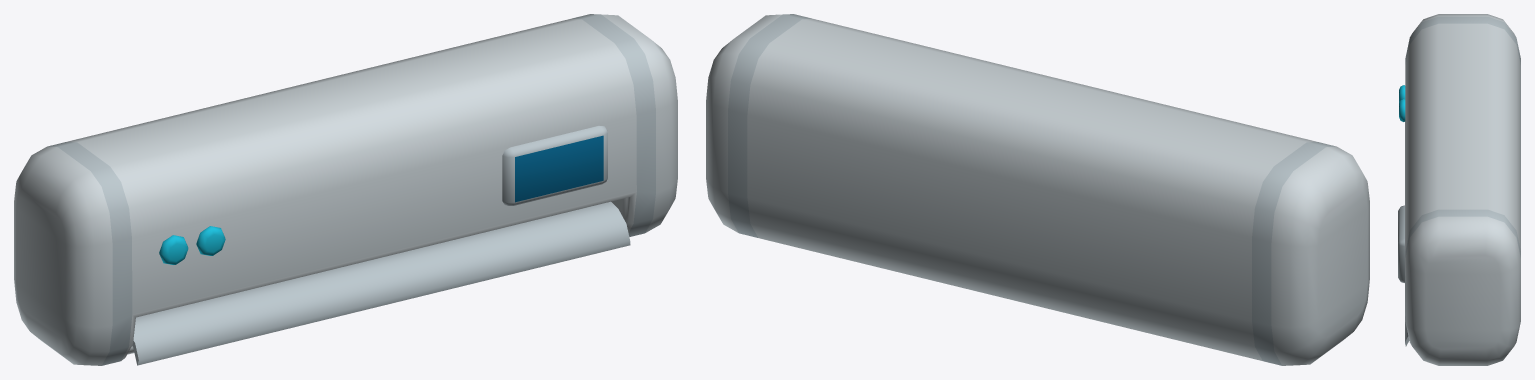
Rendered from Conditioner_01.glb.
The picture shows the model from 3 angles, left to right: view 1: azimuth 30°, elevation 25°; view 2: azimuth 150°, elevation 25°; view 3: azimuth 270°, elevation 25°; orthographic projection. The views are drawn at different scales.
Visible parts, largest first — view 1: Conditioner_01; view 2: Conditioner_01; view 3: Conditioner_01.
Boxes of the visible parts, <box> form: Conditioner_01: <box>14,14,677,365</box>; Conditioner_01: <box>706,14,1369,365</box>; Conditioner_01: <box>1398,14,1520,365</box>.
Size of the model in its own units: 0.92 by 0.2812 by 0.2127.
1 material, 1 textured.
